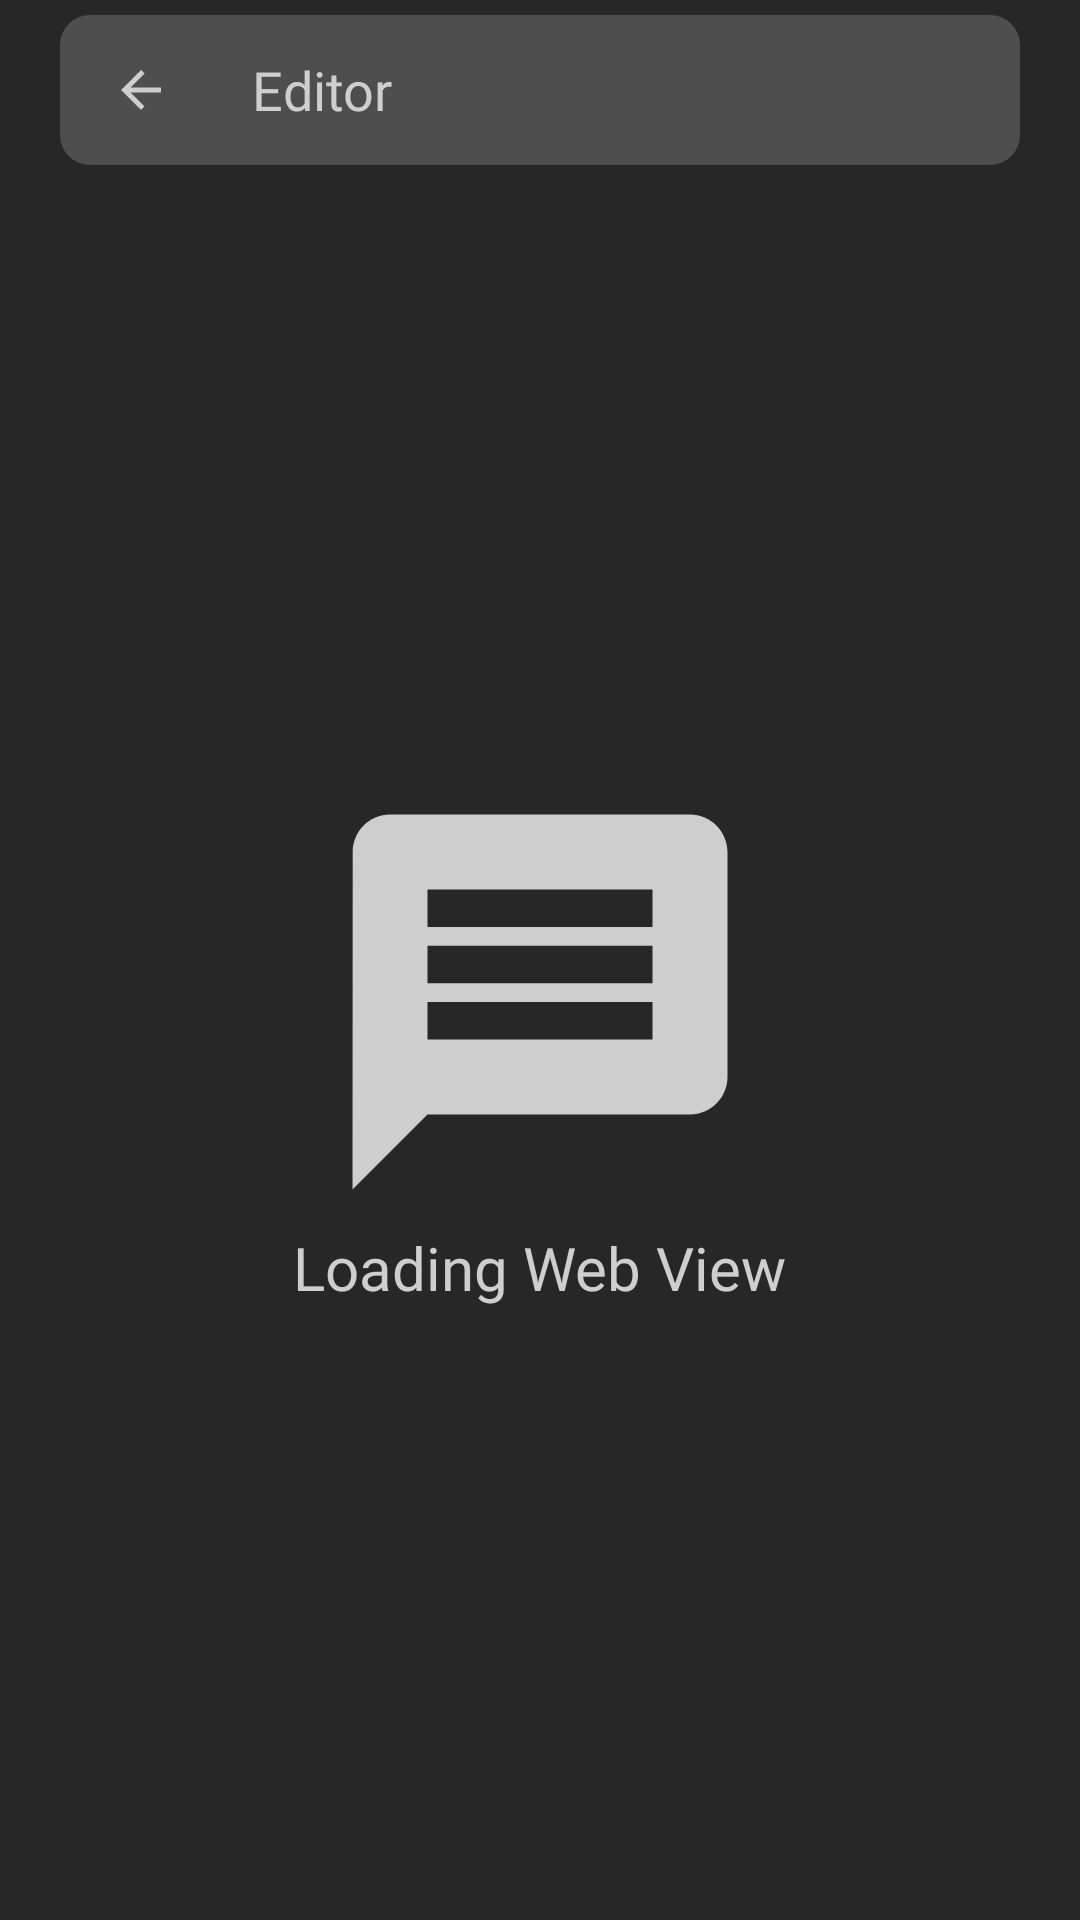

Icons on this 1080*1920 Android screen, each with the point to tap as (x=x, y=y):
arrow back: (x=141, y=90)
